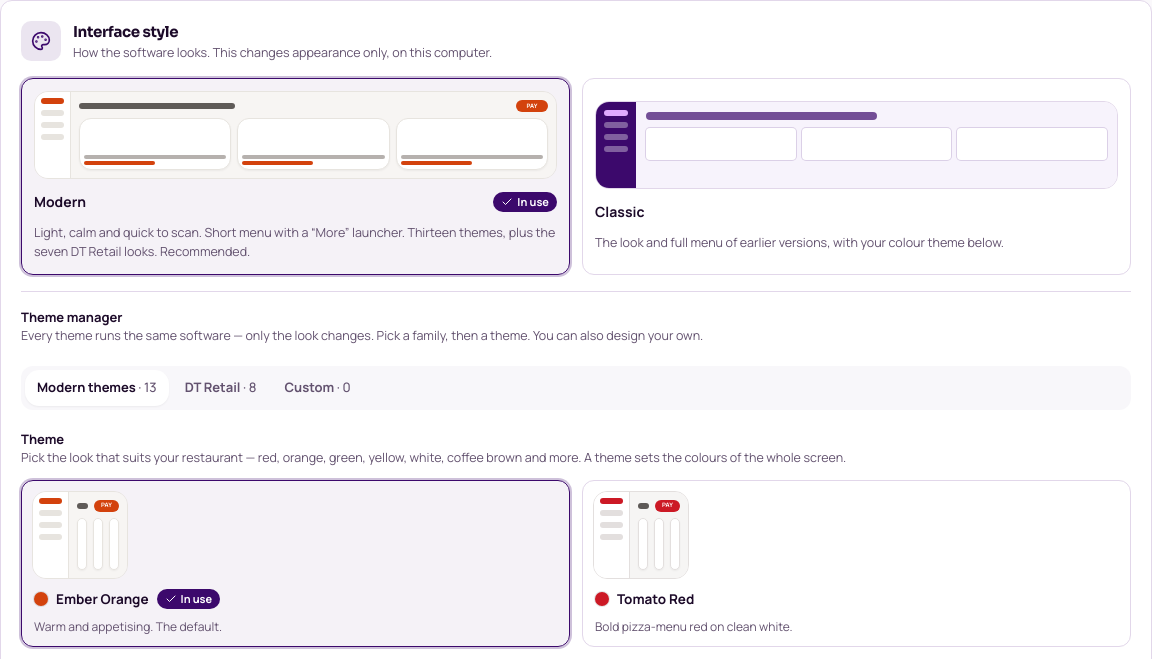
the Theme manager in Settings → Appearance › offers Modern themes, DT Retail and Custom, and Classic stays one click away
Expected: the radio button labelled "Classic" is shown, [582, 78, 1131, 275]
What coordinates should you click on to do the following:
click the tab "DT Retail · 8"
I would click on:
 (221, 388)
Its box is [173, 370, 268, 406].
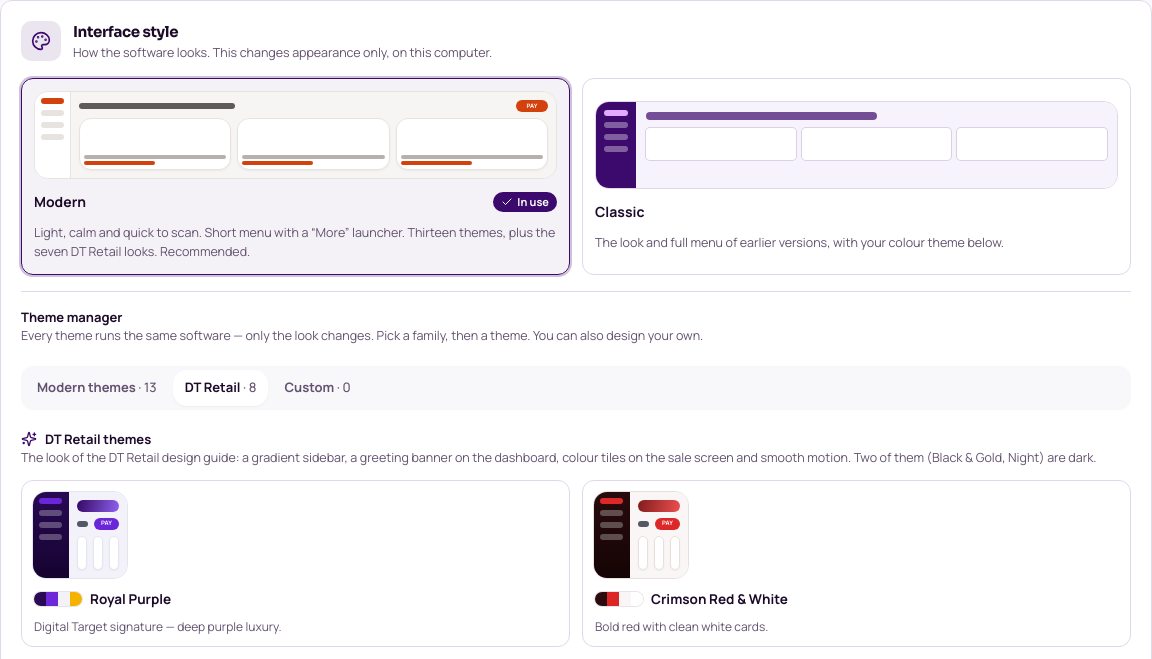
What coordinates should you click on to do the following:
click the tab "Custom · 0"
I would click on:
 (318, 388)
Its box is [272, 370, 363, 406].
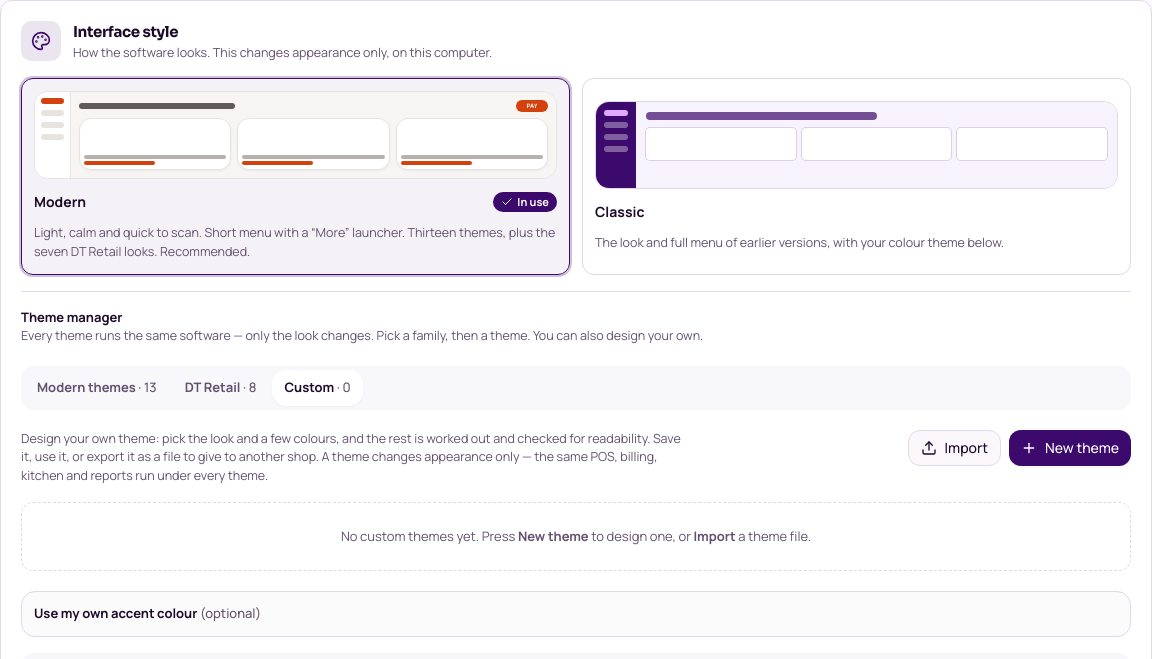
Expected: the element with test id "custom-themes" is shown, [21, 430, 1131, 571]
